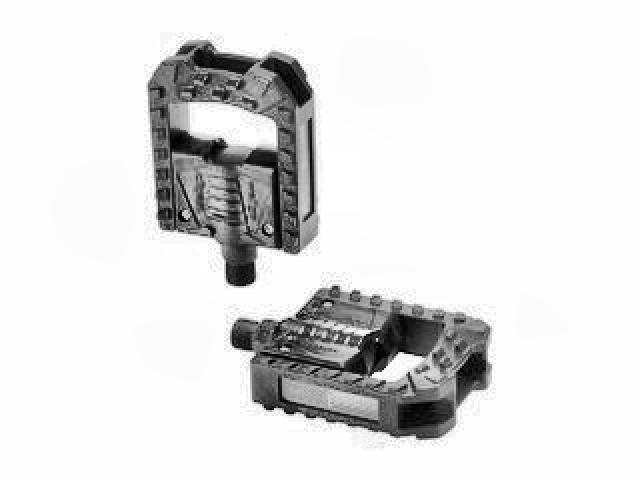pedal: (144, 34, 320, 288), (223, 287, 499, 442)
